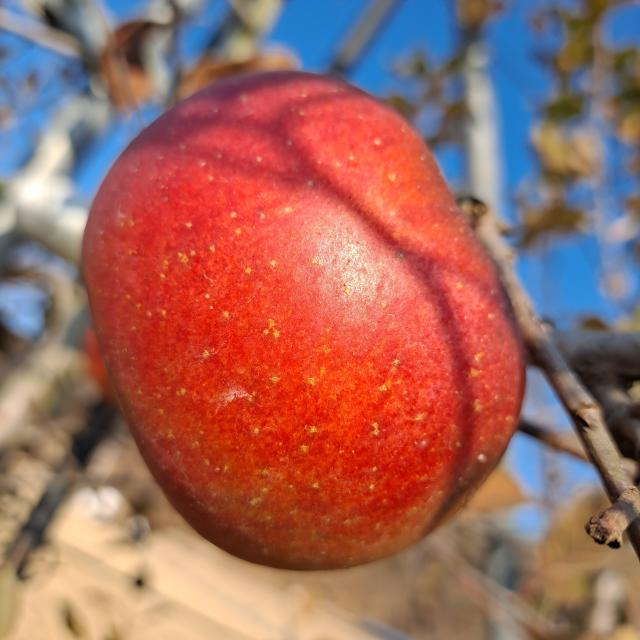fresh: (74, 65, 536, 580)
